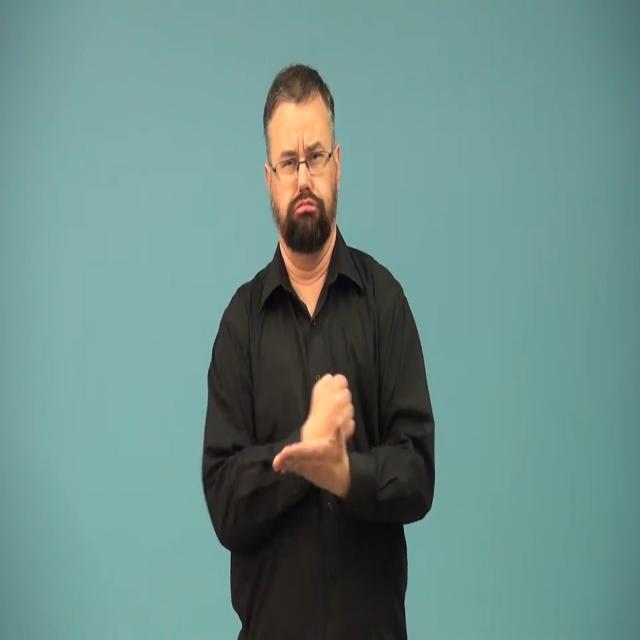credit card: (262, 350, 368, 524)
